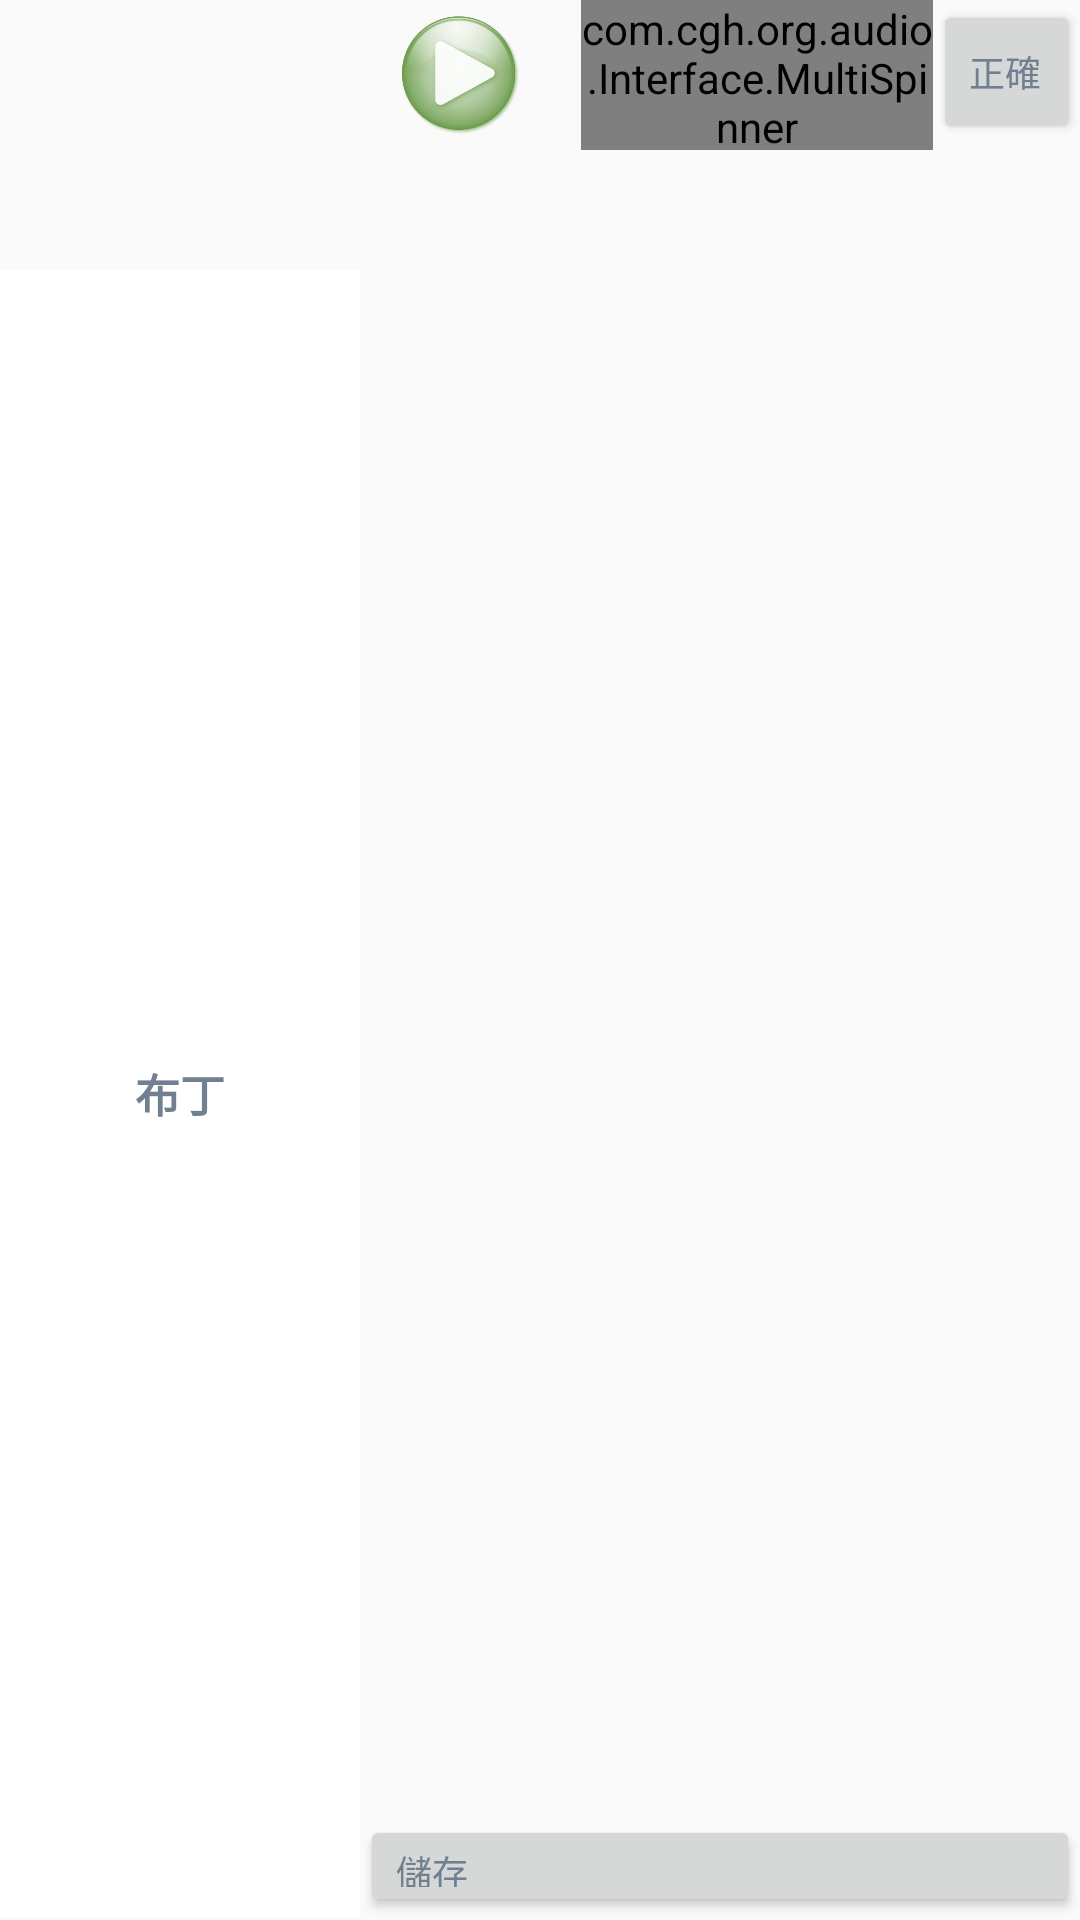

Locate icon controls on the screen. Image size 1080 × 1920, boxes as [x1=x1, y1=y1, x2=x2, y2=y2].
play: [x1=402, y1=16, x2=518, y2=133]
